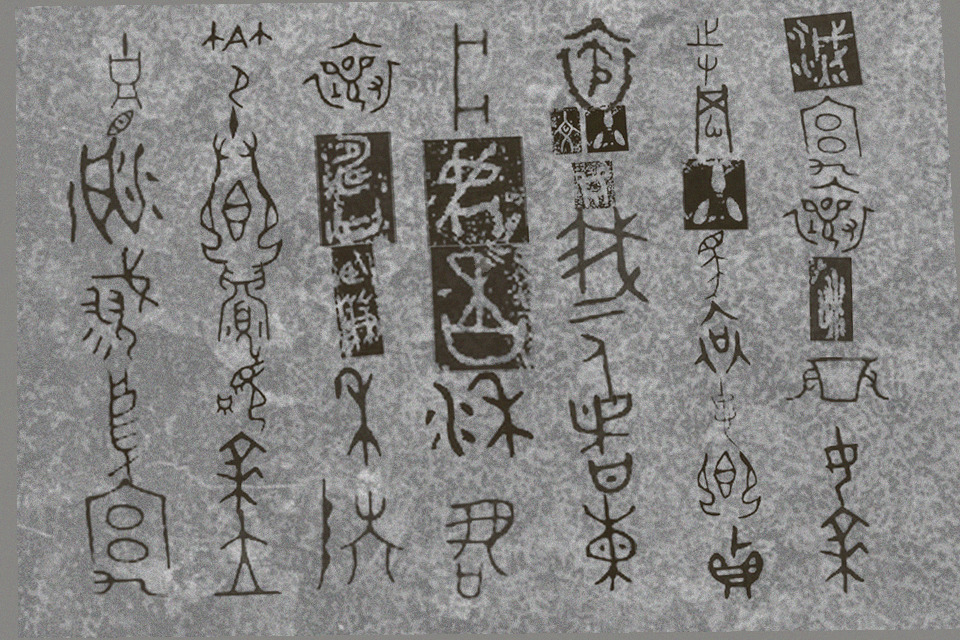char: (427, 241, 536, 374), (420, 134, 532, 250), (82, 474, 173, 602), (63, 133, 165, 247), (311, 475, 407, 593), (420, 368, 537, 463), (311, 128, 400, 251), (553, 203, 654, 306), (78, 243, 163, 363), (441, 476, 519, 603), (546, 101, 634, 213), (298, 29, 404, 117), (552, 15, 640, 119), (196, 176, 286, 272), (777, 174, 879, 256), (565, 388, 639, 498), (566, 294, 635, 408), (326, 240, 389, 364), (781, 8, 866, 95), (198, 19, 277, 111), (211, 506, 283, 599), (579, 490, 642, 596), (678, 154, 752, 234), (780, 354, 891, 406), (798, 94, 865, 180), (213, 259, 273, 355), (331, 363, 384, 470), (815, 502, 874, 595), (447, 20, 494, 135), (212, 343, 271, 434), (702, 522, 767, 602), (692, 449, 763, 522), (689, 296, 753, 376), (104, 365, 145, 487), (214, 429, 268, 518), (804, 254, 856, 344), (209, 103, 262, 190), (103, 30, 145, 139), (821, 424, 865, 509), (689, 83, 736, 157), (682, 16, 726, 89), (694, 229, 731, 304), (708, 375, 742, 453)
